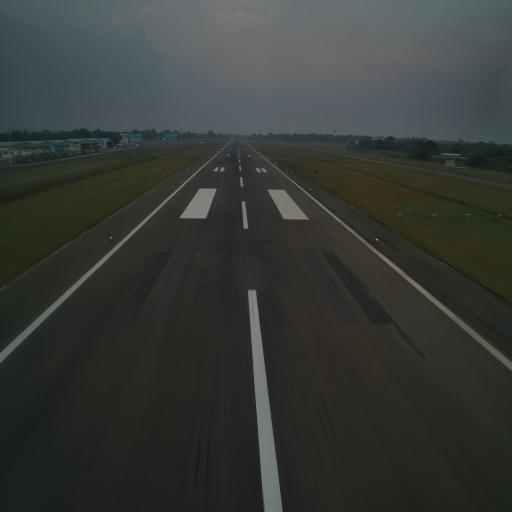on: (376, 236, 379, 244), (109, 235, 113, 241), (309, 186, 312, 192), (171, 184, 174, 190)
